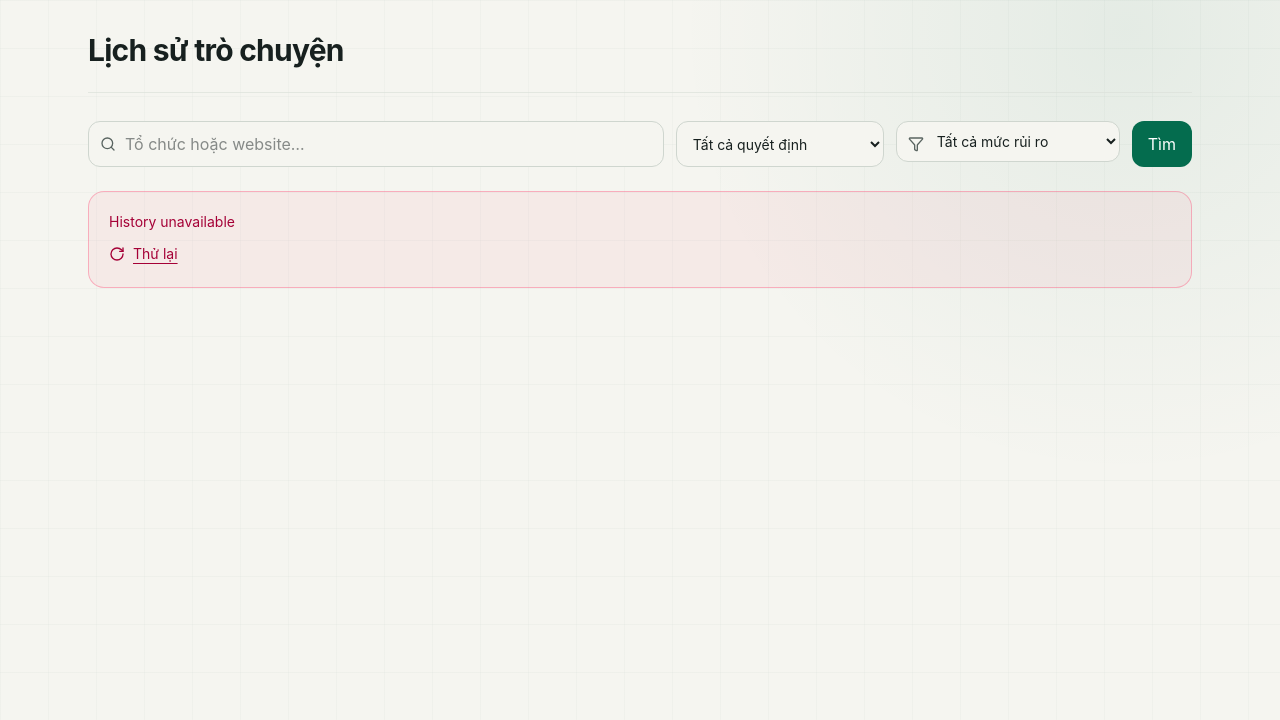
it: FE5 case library › supports error retry and a real empty response
Expected: the message shows "History unavailable", [109,213,235,230]
Click the button "Thử lại" at coordinates (143, 254), box [109,244,178,264]
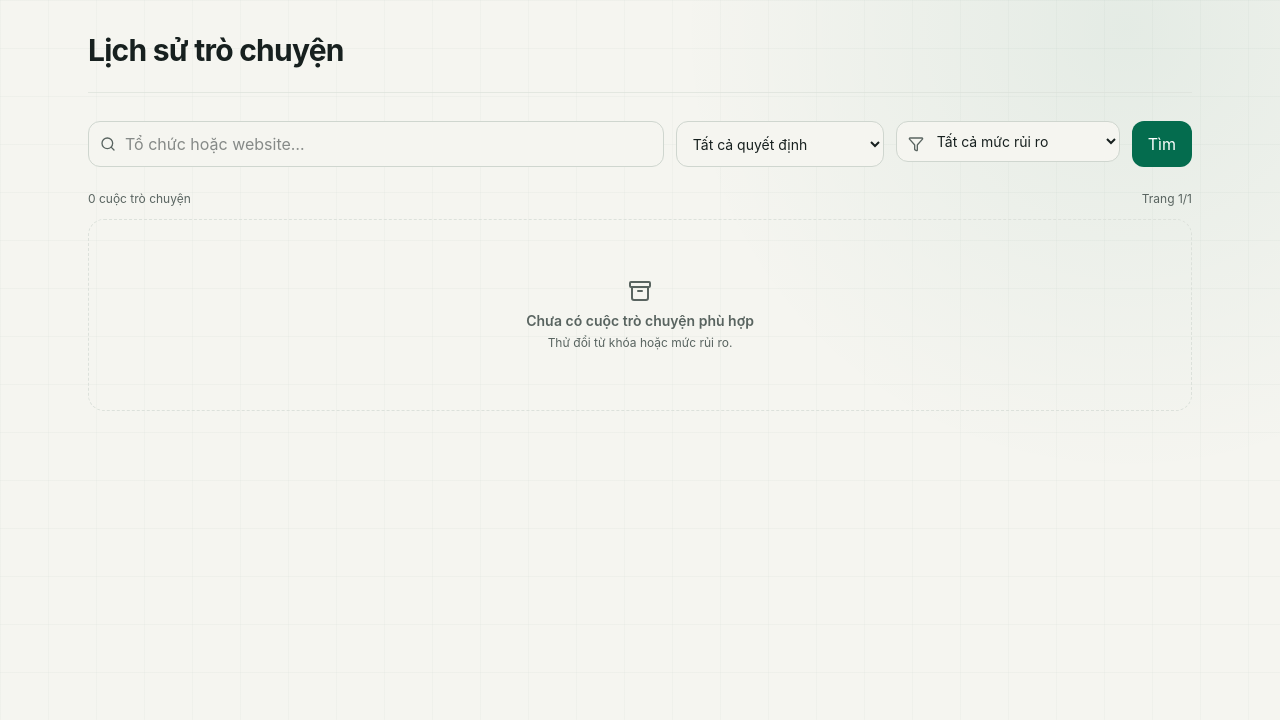
Expected: the text "Chưa có cuộc trò chuyện phù hợp" is shown, [526,311,754,331]
